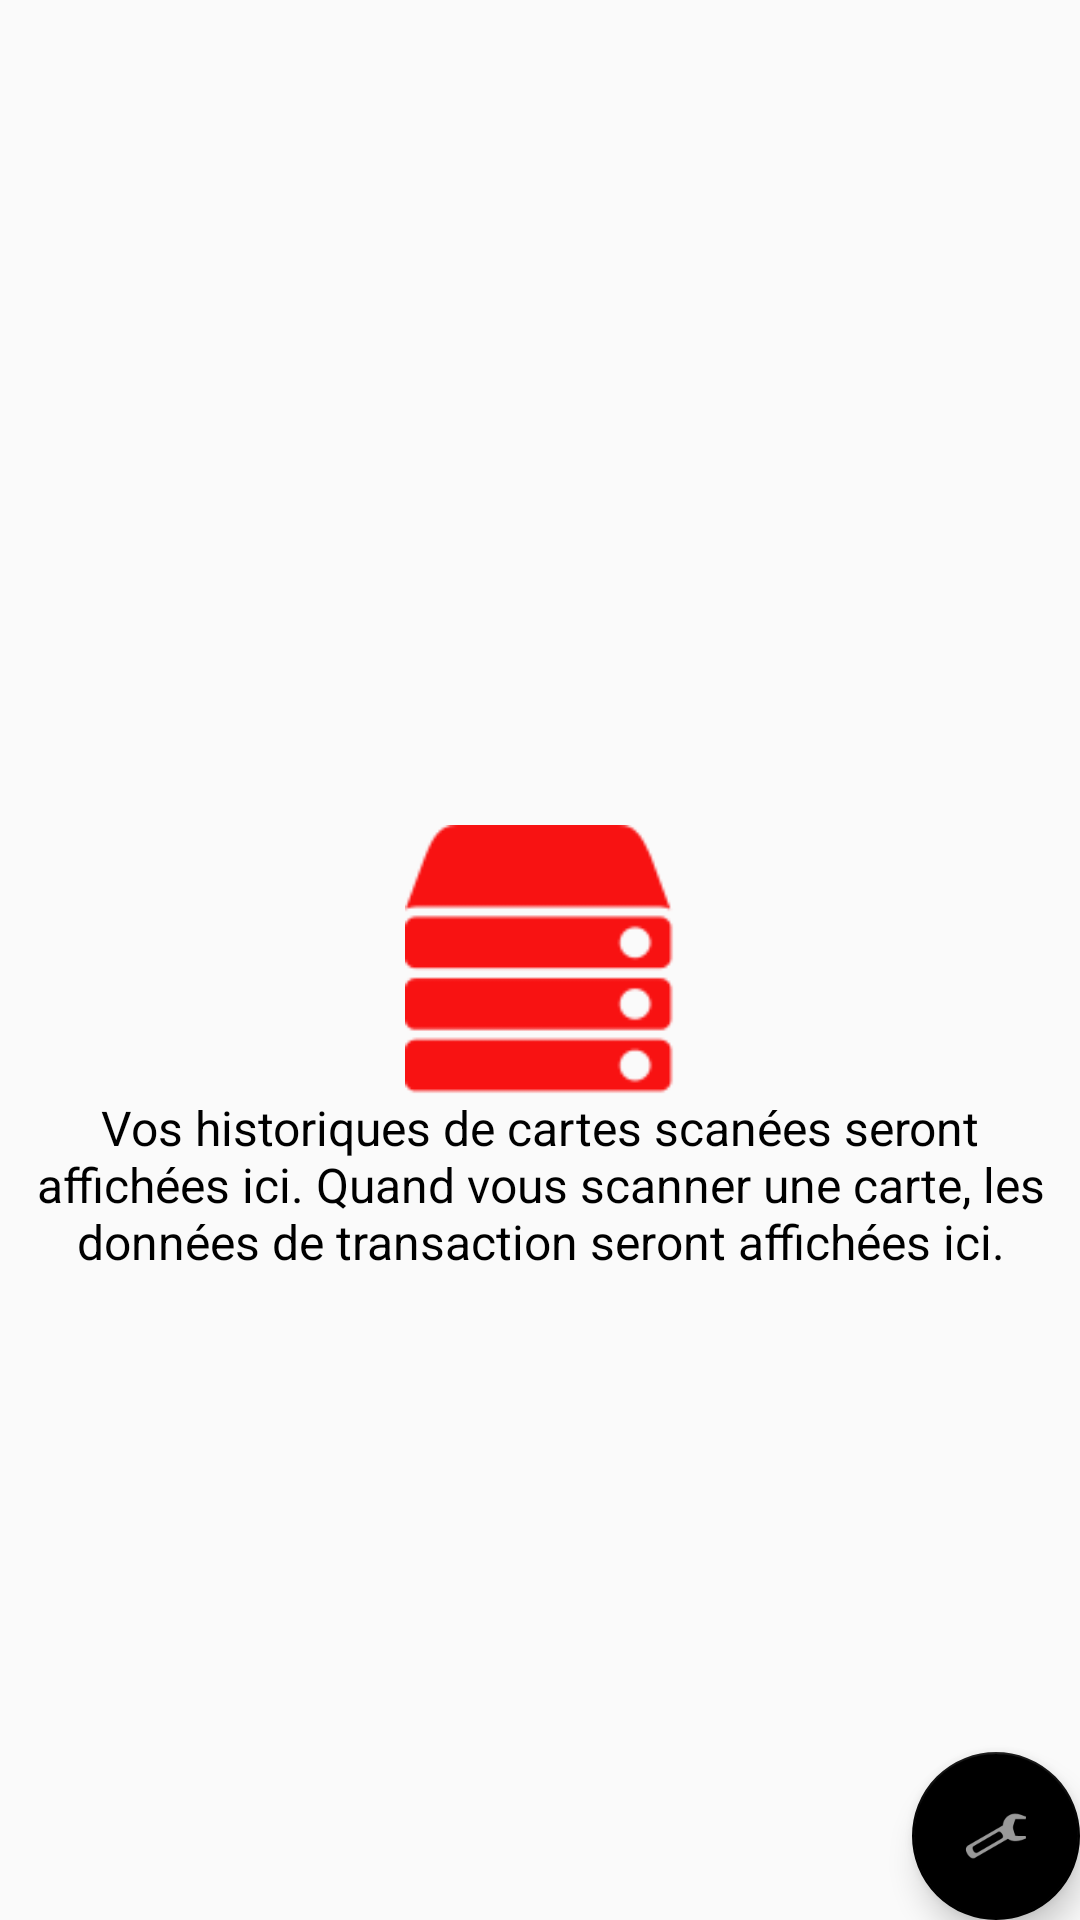

Icons on this 1080*1920 Android screen, each with its box as [x1,y1,x2,y2]:
manage: [912,1752,1080,1920]
stack: [405,825,673,1093]
